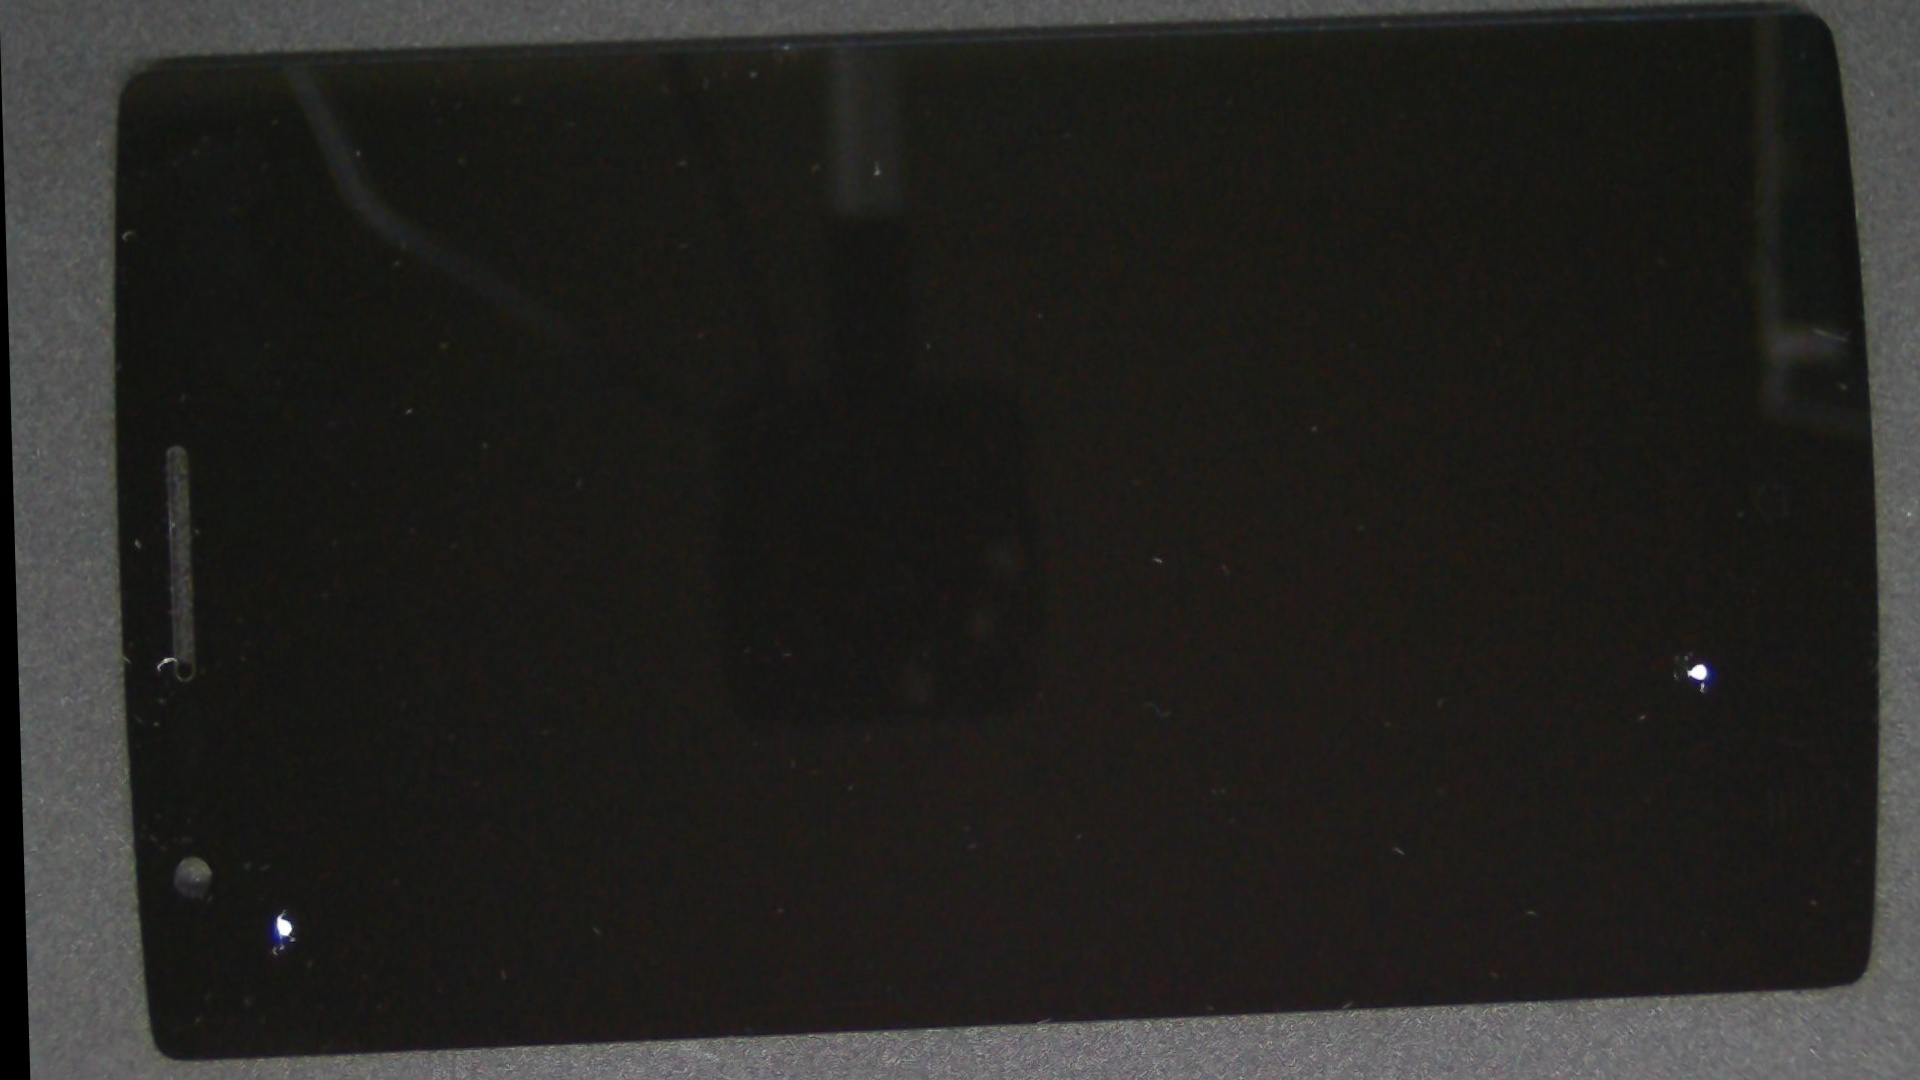oil: (849, 280, 1920, 1060), (141, 427, 422, 1080), (141, 446, 417, 1080)
